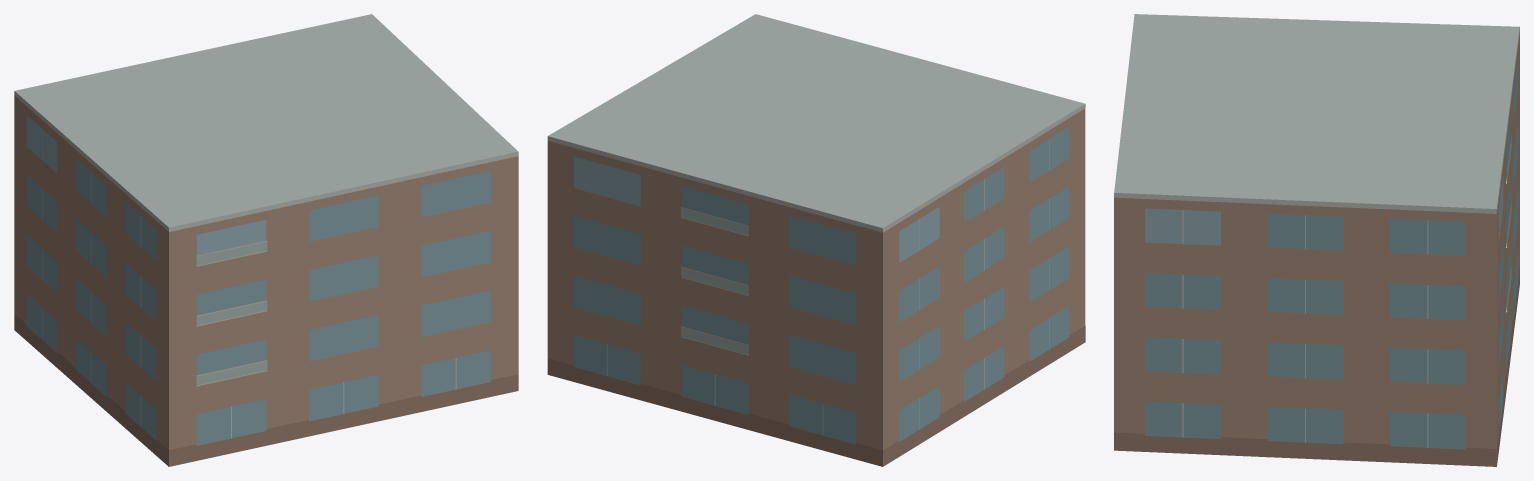
Rendered from survey-upis-32837048.glb.
The picture shows the model from 3 angles, left to right: view 1: azimuth 30°, elevation 25°; view 2: azimuth 150°, elevation 25°; view 3: azimuth 270°, elevation 25°; orthographic projection. The views are drawn at different scales.
Parts seen in each view (by area): view 1: survey-upis-32837048.tmp; view 2: survey-upis-32837048.tmp; view 3: survey-upis-32837048.tmp.
Boxes of the visible parts, bbox=[...] form: survey-upis-32837048.tmp: bbox=[14, 14, 518, 466]; survey-upis-32837048.tmp: bbox=[547, 14, 1085, 466]; survey-upis-32837048.tmp: bbox=[1114, 14, 1519, 466].
Size of the model in its own units: 21.11 by 13 by 18.56.
